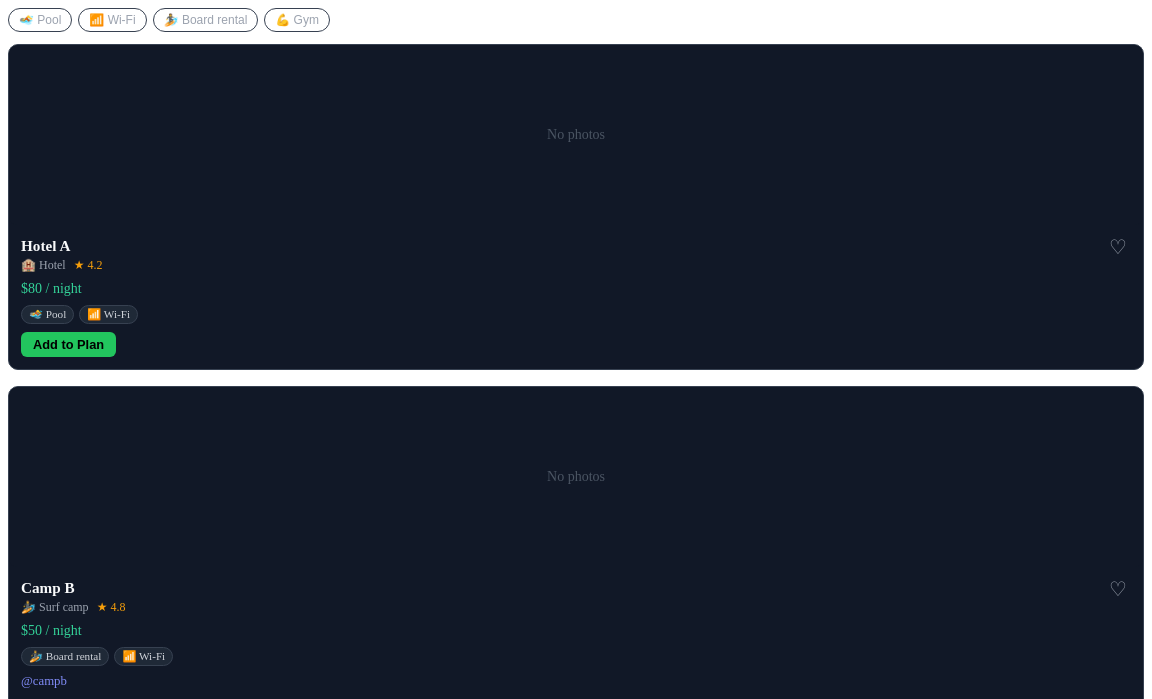
Test: StayTab › shows X of Y summary when filter active
What coordinates should you click on to do the following:
click the button with class "chip" showing "🏊 Pool"
I would click on:
 (40, 20)
Its box is [8, 8, 72, 32].
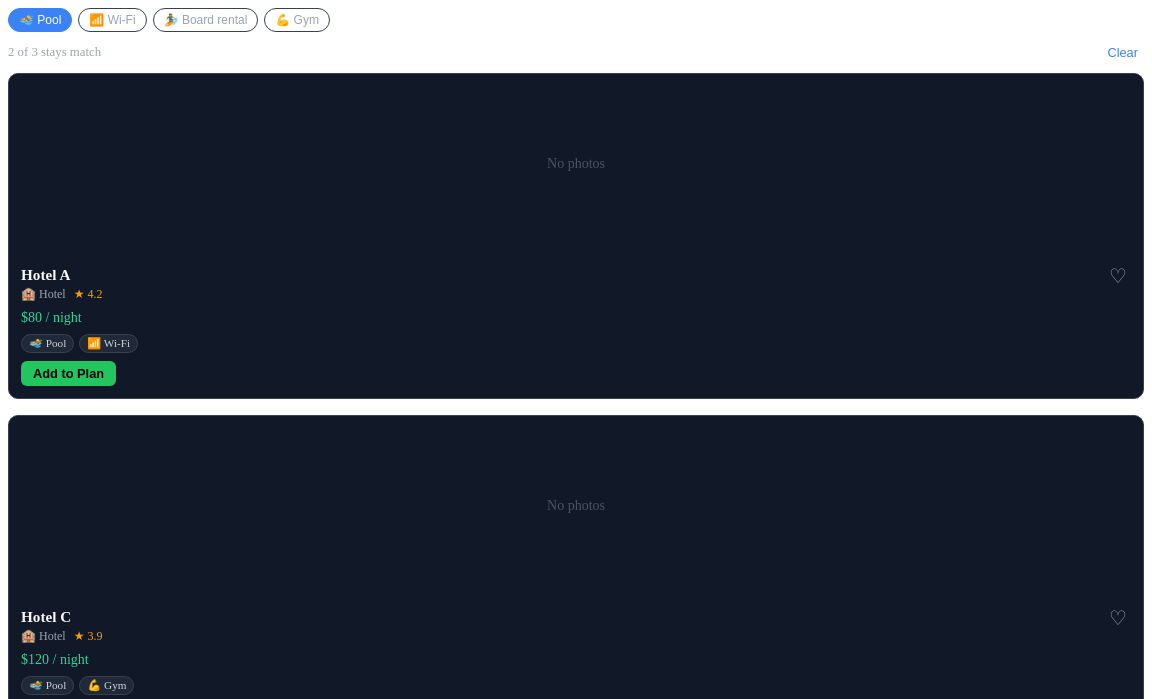
expect the element with class "filter-summary" is shown: met, box [8, 44, 1144, 61]
expect the element with class "filter-summary" shows "of 3 stays match": met, box [8, 45, 101, 59]
